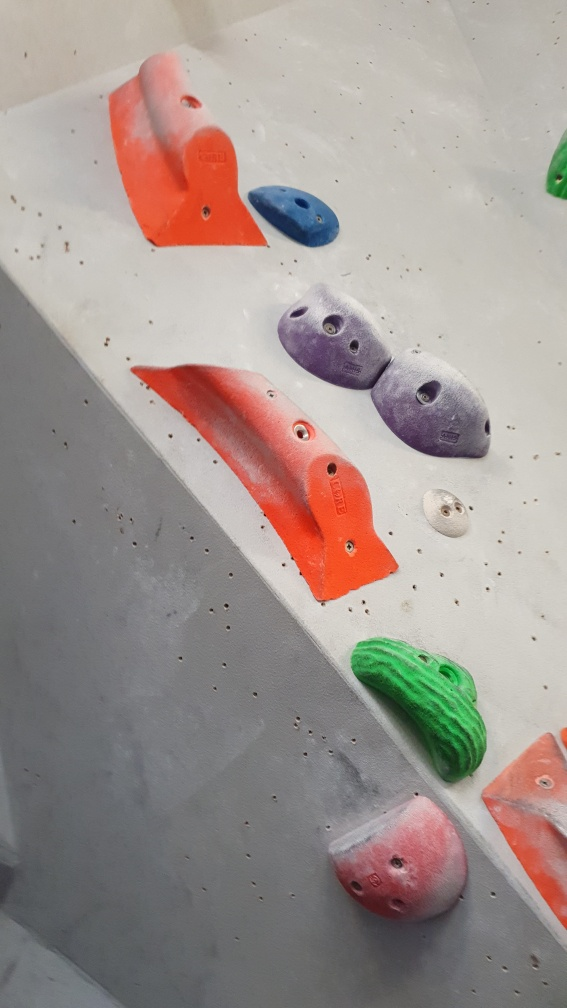Crimp: (324, 793, 473, 927), (246, 184, 346, 250)
Jug: (352, 628, 488, 781), (276, 279, 394, 394), (376, 353, 495, 463)
Pinch: (133, 360, 403, 604), (105, 50, 274, 254), (477, 730, 567, 933)
